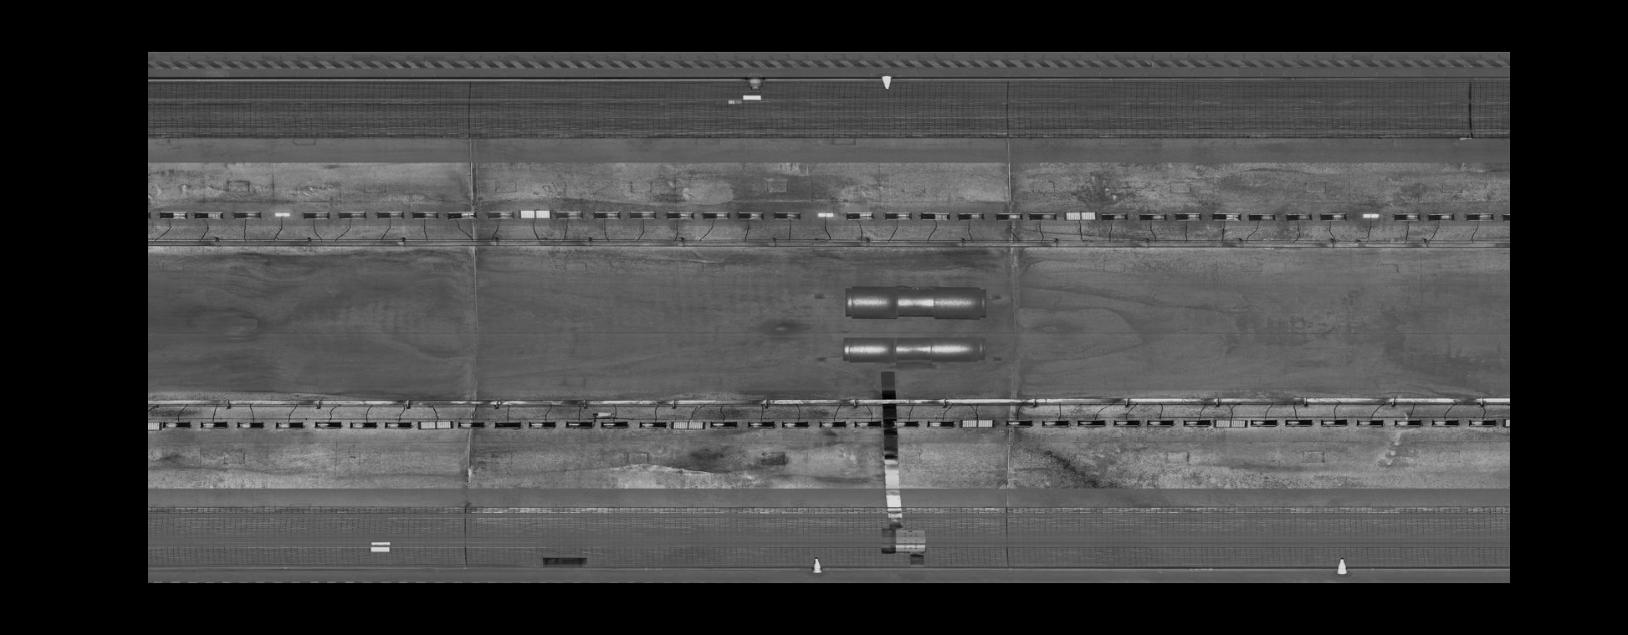light: (1209, 210, 1244, 224), (1062, 209, 1097, 223), (1211, 417, 1249, 430), (1027, 209, 1059, 223), (959, 417, 997, 430), (552, 208, 587, 221), (1173, 209, 1204, 223), (190, 209, 226, 221), (415, 419, 455, 431), (917, 210, 952, 222), (517, 208, 552, 220), (1245, 211, 1277, 224), (1136, 210, 1168, 223), (992, 209, 1024, 222), (955, 209, 987, 222), (670, 419, 707, 431), (1464, 209, 1495, 222), (1391, 210, 1422, 223), (881, 209, 915, 221), (663, 209, 697, 221), (591, 209, 624, 221), (444, 209, 478, 221), (156, 209, 189, 221), (337, 208, 368, 221), (700, 209, 732, 221), (626, 209, 658, 221), (373, 209, 405, 221), (709, 417, 741, 430), (1315, 211, 1350, 222), (229, 209, 264, 220), (1466, 416, 1500, 427), (1284, 211, 1315, 223), (1098, 211, 1130, 223), (735, 210, 766, 222), (301, 209, 332, 221), (1424, 211, 1457, 222), (484, 209, 516, 220), (563, 418, 595, 430), (455, 418, 487, 430), (844, 209, 875, 220), (410, 209, 441, 220), (1248, 416, 1279, 427), (890, 418, 921, 430), (346, 419, 380, 430), (311, 419, 346, 430), (272, 419, 306, 430), (232, 419, 266, 430), (196, 419, 230, 430), (1354, 417, 1387, 427), (1315, 417, 1349, 427), (1282, 417, 1315, 427), (491, 419, 524, 430), (747, 418, 777, 430), (770, 210, 803, 220), (599, 419, 631, 430), (161, 419, 193, 430), (1144, 417, 1175, 427), (1002, 418, 1033, 429), (852, 419, 884, 430), (817, 419, 848, 430), (780, 419, 811, 430), (637, 419, 669, 430), (526, 419, 558, 430), (383, 420, 414, 431), (1429, 418, 1463, 427), (1074, 418, 1108, 427), (926, 419, 956, 430), (1391, 418, 1424, 427), (1039, 418, 1073, 427), (1182, 418, 1213, 427), (1112, 418, 1141, 427), (1359, 210, 1383, 220), (270, 210, 294, 219), (814, 210, 835, 220), (147, 420, 161, 430), (1500, 209, 1509, 223), (1501, 414, 1509, 430)
